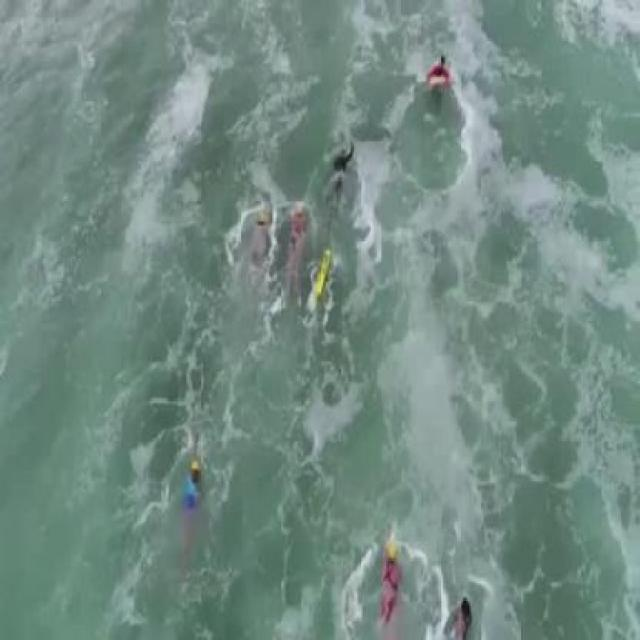swimming: (237, 188, 313, 303), (176, 447, 216, 532), (416, 50, 460, 126), (366, 549, 408, 614), (322, 145, 357, 200)
